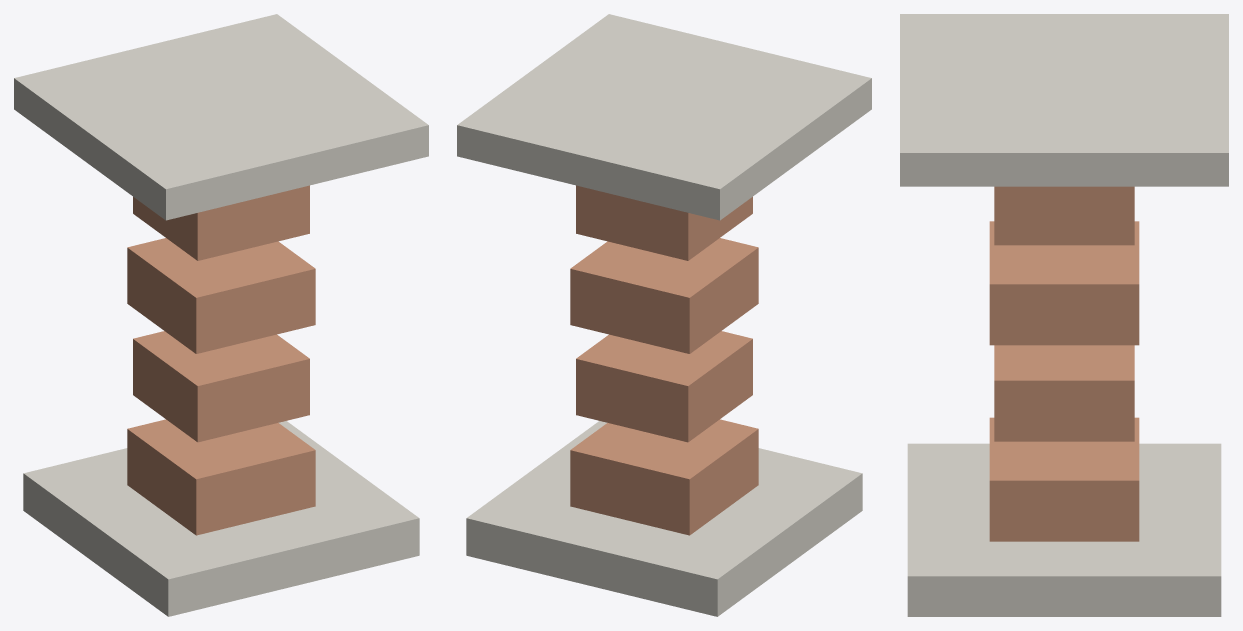
The model's file is roman-bathhouse-and-palaestra-hypocaust-pilae-stack-c9f5e645__37874.glb.
3 views of the same model, side by side, from view 1: azimuth 30°, elevation 25°; view 2: azimuth 150°, elevation 25°; view 3: azimuth 270°, elevation 25° (orthographic). The views are drawn at different scales.
Visible parts, largest first — view 1: hypocaust-pilae-stack; view 2: hypocaust-pilae-stack; view 3: hypocaust-pilae-stack.
Boxes of the visible parts, x1,y1,x2,y2 form: hypocaust-pilae-stack: (14,14,428,616); hypocaust-pilae-stack: (457,14,871,616); hypocaust-pilae-stack: (900,14,1228,616).
Bounding box in the file's own units: 0.44 × 0.69 × 0.44.
